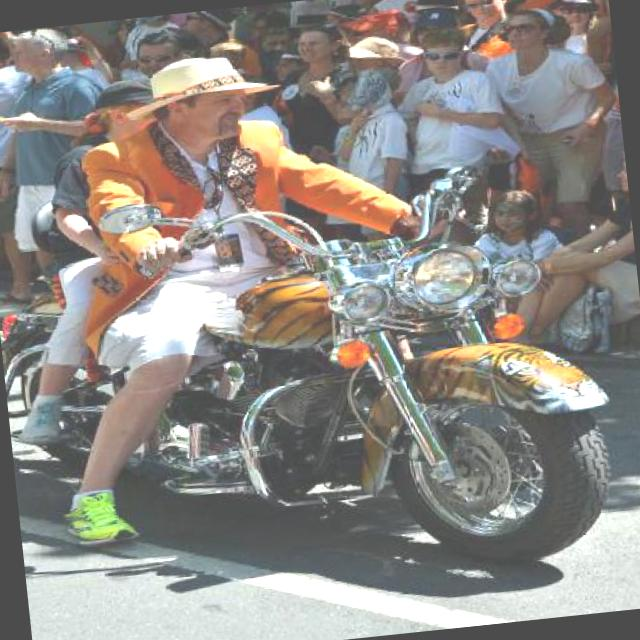Person: (63, 0, 640, 453), (35, 26, 483, 491), (0, 73, 191, 447), (474, 0, 629, 213), (0, 21, 124, 271), (388, 14, 526, 230), (0, 28, 61, 304), (260, 20, 360, 157), (322, 60, 412, 198), (470, 180, 570, 265), (346, 30, 416, 96), (456, 0, 518, 60), (139, 30, 186, 74), (273, 43, 315, 82)
